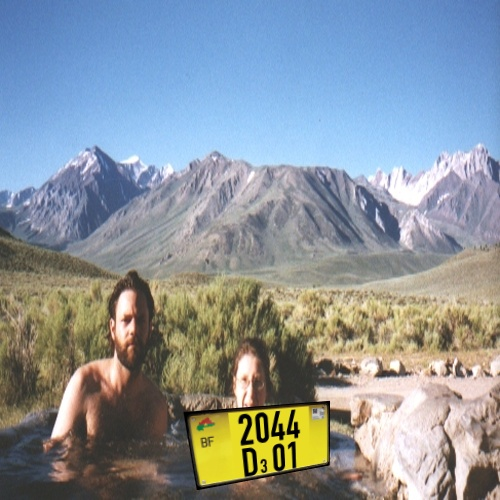plate: (181, 392, 347, 491)
